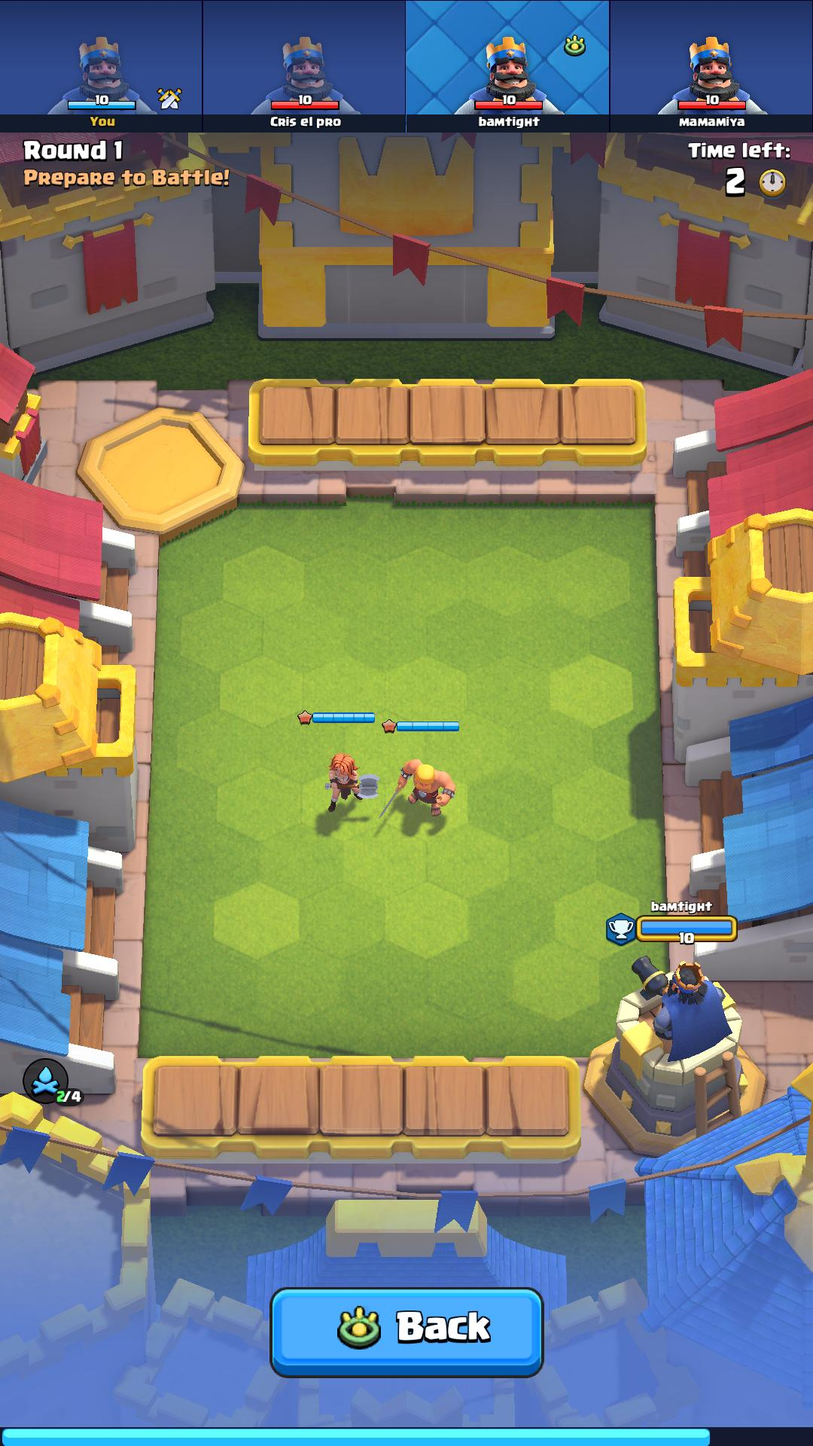barbarian: (386, 748, 463, 817)
valkyrie: (312, 748, 381, 812)
